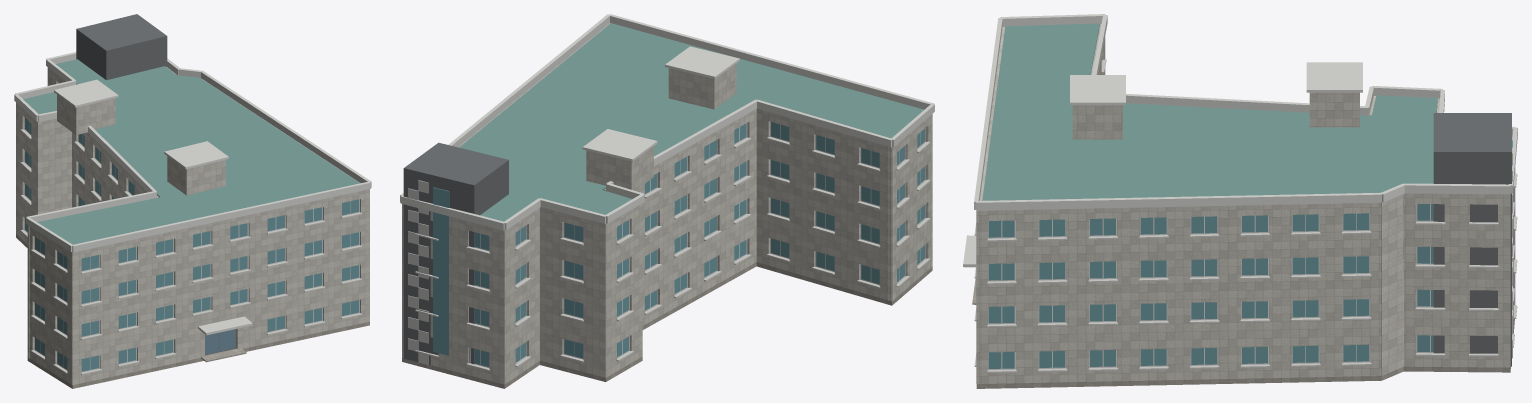
The picture shows the model from 3 angles, left to right: view 1: azimuth 30°, elevation 25°; view 2: azimuth 150°, elevation 25°; view 3: azimuth 270°, elevation 25°; orthographic projection. The views are drawn at different scales.
Parts seen in each view (by area): view 1: nw-hall__granite-light, nw-hall__greenroof, nw-hall__cap, nw-hall__stairglass, nw-hall__darkpanel, nw-hall__sill, nw-hall__lightframe, nw-hall__stone, nw-hall__glass, nw-hall__threshold-door-1; view 2: nw-hall__granite-light, nw-hall__greenroof, nw-hall__stairglass, nw-hall__cap, nw-hall__darkpanel, nw-hall__sill, nw-hall__lightframe, nw-hall__stone, nw-hall__checker-light; view 3: nw-hall__granite-light, nw-hall__greenroof, nw-hall__stairglass, nw-hall__cap, nw-hall__darkpanel, nw-hall__sill, nw-hall__lightframe, nw-hall__stone.
Part boxes in pixels (<box>): nw-hall__granite-light: <box>16,67,369,385</box>; nw-hall__greenroof: <box>23,59,359,244</box>; nw-hall__cap: <box>14,52,371,335</box>; nw-hall__stairglass: <box>25,118,359,371</box>; nw-hall__darkpanel: <box>76,14,167,80</box>; nw-hall__sill: <box>20,129,362,374</box>; nw-hall__lightframe: <box>24,83,359,372</box>; nw-hall__stone: <box>16,234,369,388</box>; nw-hall__glass: <box>205,329,235,354</box>; nw-hall__threshold-door-1: <box>201,348,246,362</box>; nw-hall__granite-light: <box>402,23,932,384</box>; nw-hall__greenroof: <box>459,23,923,221</box>; nw-hall__stairglass: <box>433,122,925,366</box>; nw-hall__cap: <box>400,14,934,230</box>; nw-hall__darkpanel: <box>403,142,508,364</box>; nw-hall__sill: <box>415,137,930,370</box>; nw-hall__lightframe: <box>474,121,925,367</box>; nw-hall__stone: <box>402,262,932,388</box>; nw-hall__checker-light: <box>408,180,428,364</box>; nw-hall__granite-light: <box>976,24,1515,384</box>; nw-hall__greenroof: <box>982,23,1437,200</box>; nw-hall__stairglass: <box>988,140,1512,368</box>; nw-hall__cap: <box>963,14,1517,267</box>; nw-hall__darkpanel: <box>1433,113,1511,366</box>; nw-hall__sill: <box>974,59,1517,372</box>; nw-hall__lightframe: <box>988,204,1433,369</box>; nw-hall__stone: <box>976,273,1514,388</box>.
Size of the model in its own units: 30.2 by 16.36 by 37.48.
Materials: 12 (2 with a texture image).
